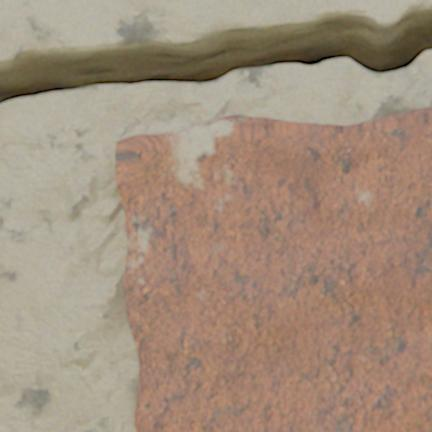brick: (115, 107, 431, 431)
crack: (0, 0, 431, 110)
